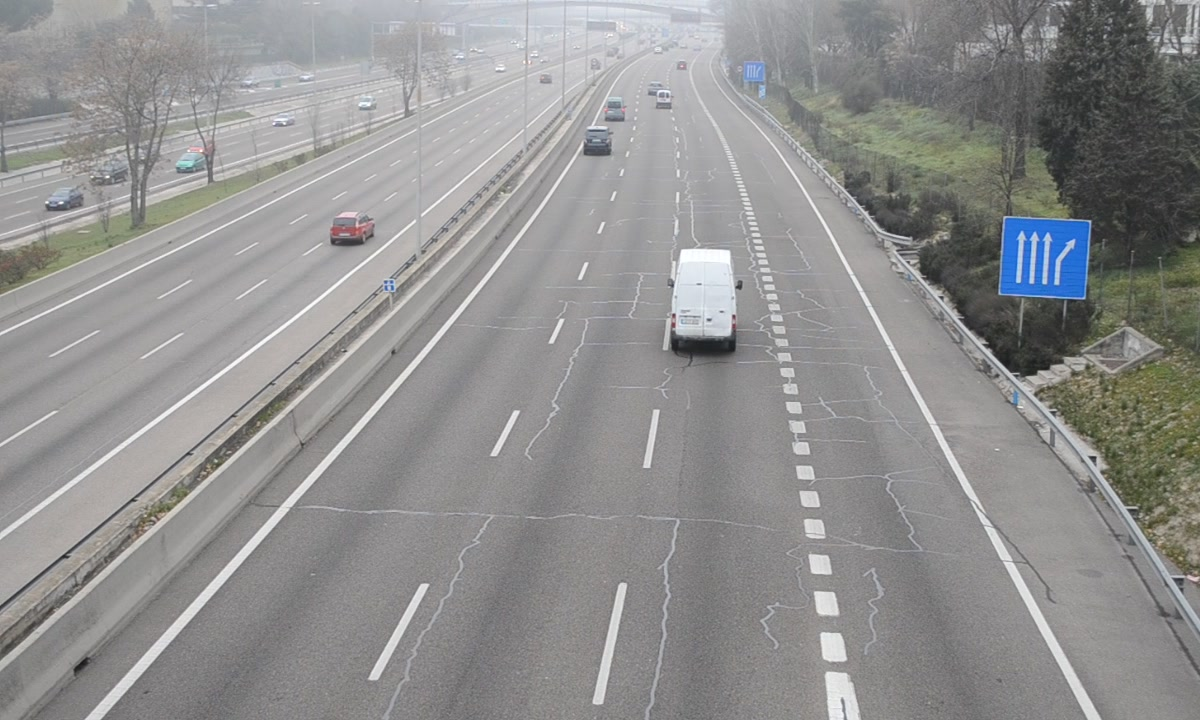car: (582, 126, 612, 154)
van: (669, 251, 740, 356), (603, 96, 625, 121)
